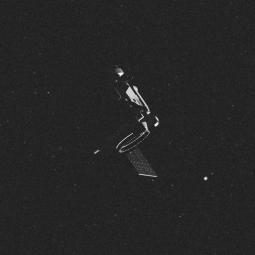proba_3_csc: (91, 60, 183, 192)
